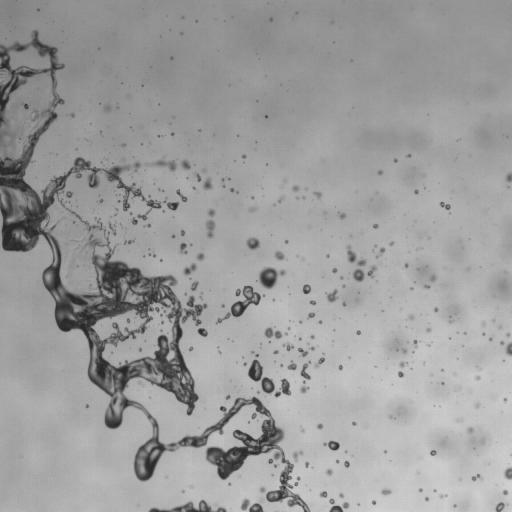droplet: (346, 245, 377, 281), (258, 267, 285, 289), (329, 498, 349, 511), (264, 327, 284, 339), (323, 440, 339, 450), (246, 237, 259, 249), (183, 263, 196, 275), (326, 289, 337, 302), (203, 177, 212, 190), (503, 466, 511, 479), (282, 342, 293, 351), (274, 251, 284, 260), (293, 451, 302, 461), (495, 502, 505, 511), (181, 160, 190, 169), (287, 361, 296, 370), (440, 202, 450, 210), (197, 328, 207, 336), (297, 348, 307, 356), (190, 281, 198, 290), (302, 284, 310, 293), (180, 243, 187, 253), (472, 474, 482, 481), (381, 488, 391, 495), (194, 172, 201, 181), (506, 172, 511, 182), (197, 253, 204, 260), (399, 361, 407, 367), (292, 185, 299, 191), (314, 192, 321, 198), (249, 206, 256, 212), (320, 491, 327, 497), (413, 339, 418, 347), (104, 105, 110, 111), (430, 275, 436, 281), (308, 312, 314, 318), (317, 423, 323, 429), (467, 427, 473, 433), (326, 469, 332, 475), (398, 371, 403, 377), (430, 450, 436, 455), (344, 461, 349, 467), (439, 494, 446, 498), (340, 213, 345, 218), (180, 230, 185, 235), (332, 268, 337, 273), (408, 314, 413, 319), (475, 375, 480, 380), (230, 188, 236, 192), (456, 418, 462, 422), (414, 189, 418, 194), (98, 199, 103, 203), (373, 224, 378, 228), (310, 300, 315, 304), (426, 328, 431, 332), (310, 334, 314, 339), (188, 346, 193, 350), (309, 346, 314, 350), (338, 365, 342, 370), (475, 403, 479, 408), (305, 462, 309, 467), (503, 490, 508, 494), (242, 154, 246, 158), (378, 170, 382, 174), (389, 241, 393, 245), (151, 252, 155, 256), (404, 263, 408, 267), (434, 307, 438, 311), (356, 330, 360, 334), (402, 349, 406, 353), (274, 350, 278, 354), (226, 395, 230, 399), (503, 398, 507, 402), (339, 493, 343, 497), (424, 285, 429, 288), (71, 113, 74, 117), (407, 154, 411, 157), (393, 159, 397, 162), (146, 224, 150, 227), (342, 302, 345, 306), (482, 321, 485, 325), (500, 341, 504, 344), (326, 254, 329, 257), (126, 319, 129, 322), (319, 320, 322, 323), (498, 326, 501, 329), (506, 333, 509, 336), (352, 422, 355, 425), (419, 488, 422, 491), (425, 497, 428, 500), (372, 501, 375, 504), (122, 144, 125, 146), (203, 169, 205, 172), (222, 178, 224, 181), (193, 187, 196, 189), (285, 240, 287, 243), (489, 338, 492, 340), (243, 363, 246, 365), (389, 416, 392, 418), (171, 133, 173, 135), (222, 184, 224, 186), (172, 235, 174, 237), (299, 321, 301, 323), (288, 327, 290, 329), (138, 348, 140, 350), (255, 354, 257, 356), (257, 391, 259, 393), (86, 405, 88, 407), (336, 460, 338, 462)
ligament: (0, 30, 310, 511), (217, 285, 263, 323), (248, 358, 291, 397), (148, 500, 227, 511), (146, 159, 176, 171), (300, 361, 310, 393), (206, 209, 215, 238), (176, 189, 187, 202), (314, 357, 324, 367), (376, 247, 385, 257), (505, 342, 511, 356), (278, 196, 284, 202), (124, 240, 133, 244)
